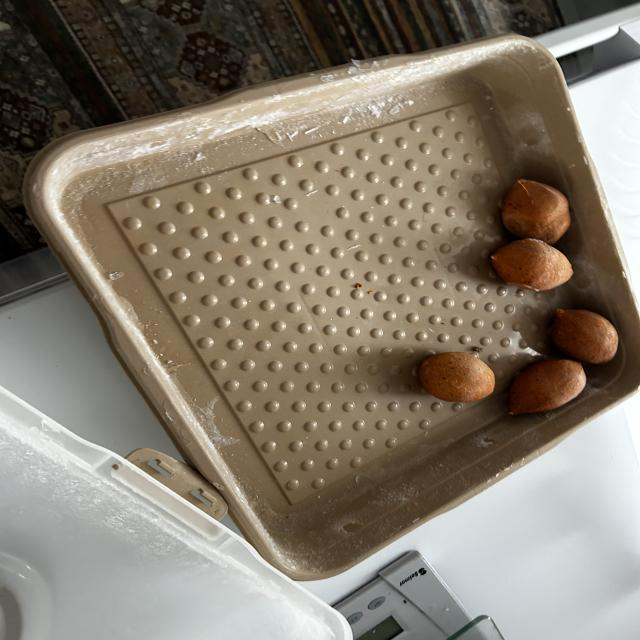kobi: (496, 179, 573, 244), (487, 239, 581, 292), (502, 361, 590, 417), (408, 351, 499, 402), (550, 308, 630, 363)
